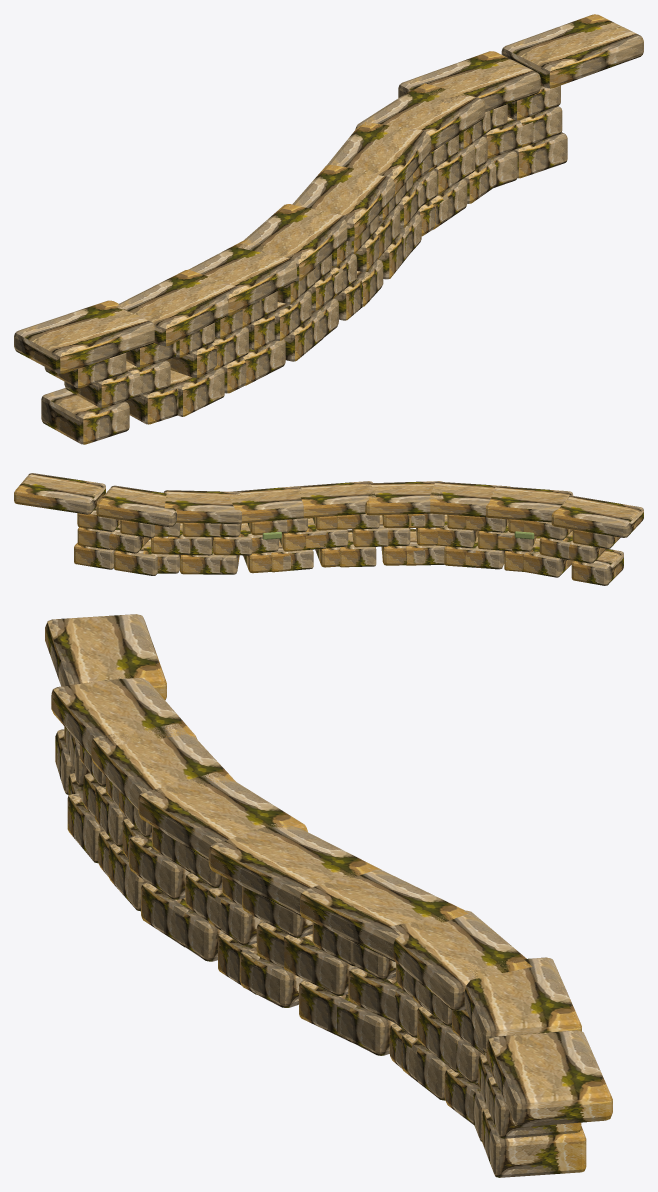
The model's file is drystone_curve.glb.
The picture shows the model from 3 angles, top to bottom: view 1: azimuth 30°, elevation 25°; view 2: azimuth 150°, elevation 25°; view 3: azimuth 270°, elevation 25°; orthographic projection. The views are drawn at different scales.
Visible parts, largest first — view 1: Painted Cotswold drystone; view 2: Painted Cotswold drystone, Warm wall moss; view 3: Painted Cotswold drystone.
Part boxes in pixels (<box>): Painted Cotswold drystone: <box>14,14,643,444</box>; Painted Cotswold drystone: <box>14,473,643,585</box>; Warm wall moss: <box>262,531,534,539</box>; Painted Cotswold drystone: <box>45,614,612,1177</box>.
Bounding box in the file's own units: 9.43 × 1.18 × 4.61.
2 materials, 1 textured.
